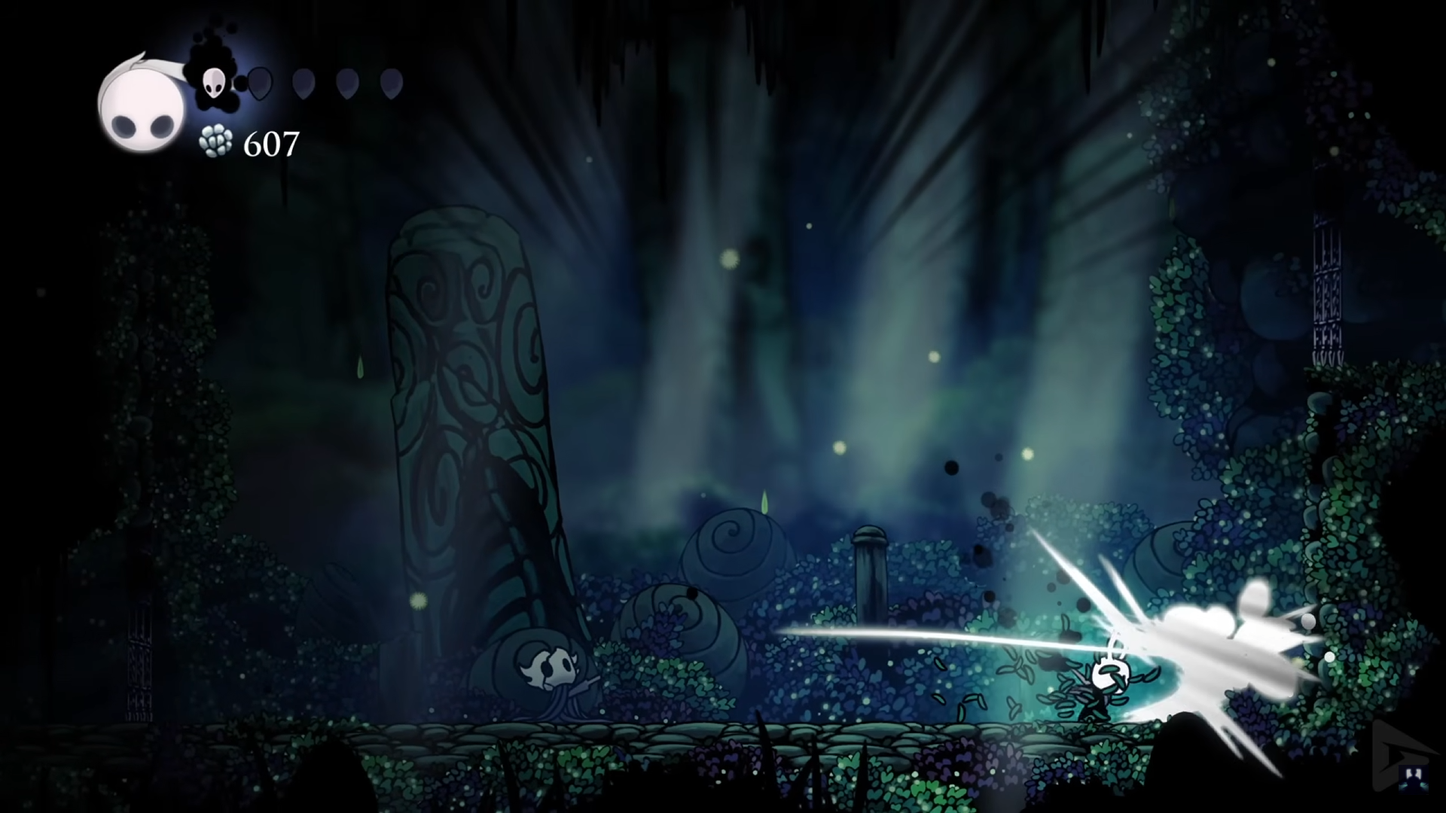HK: (1081, 635, 1138, 726)
